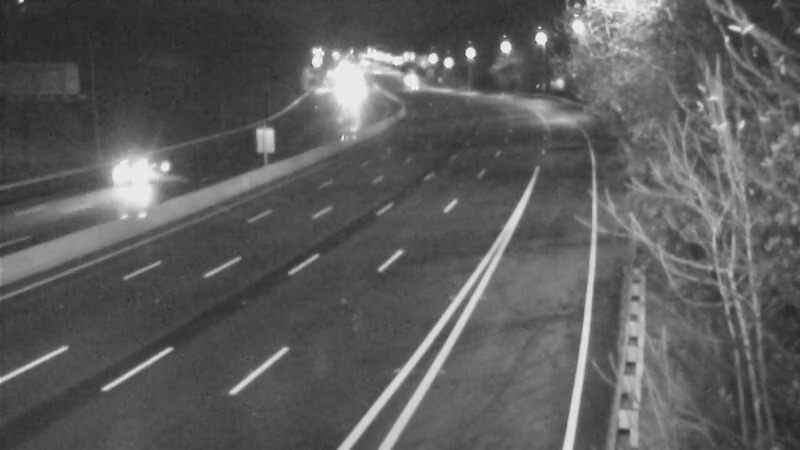vehicle: (96, 131, 176, 211), (390, 62, 440, 112)
